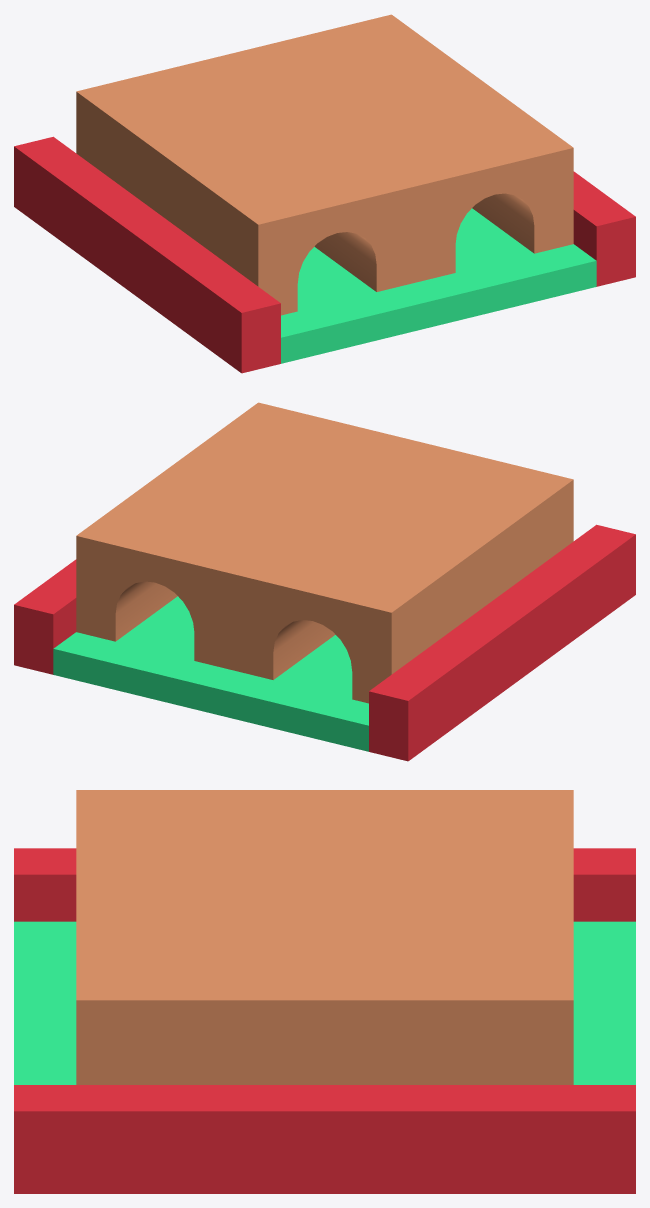
File: tunnelDouble.fbx
The picture shows the model from 3 angles, top to bottom: view 1: azimuth 30°, elevation 25°; view 2: azimuth 150°, elevation 25°; view 3: azimuth 270°, elevation 25°; orthographic projection. The views are drawn at different scales.
Parts seen in each view (by area): view 1: tunnelDouble; view 2: tunnelDouble; view 3: tunnelDouble.
Part boxes in pixels (x1=…): tunnelDouble: x1=14, y1=14, x2=635, y2=373; tunnelDouble: x1=14, y1=402, x2=635, y2=761; tunnelDouble: x1=14, y1=790, x2=635, y2=1193.
Size of the model in its own units: 10 by 2.97 by 10.
